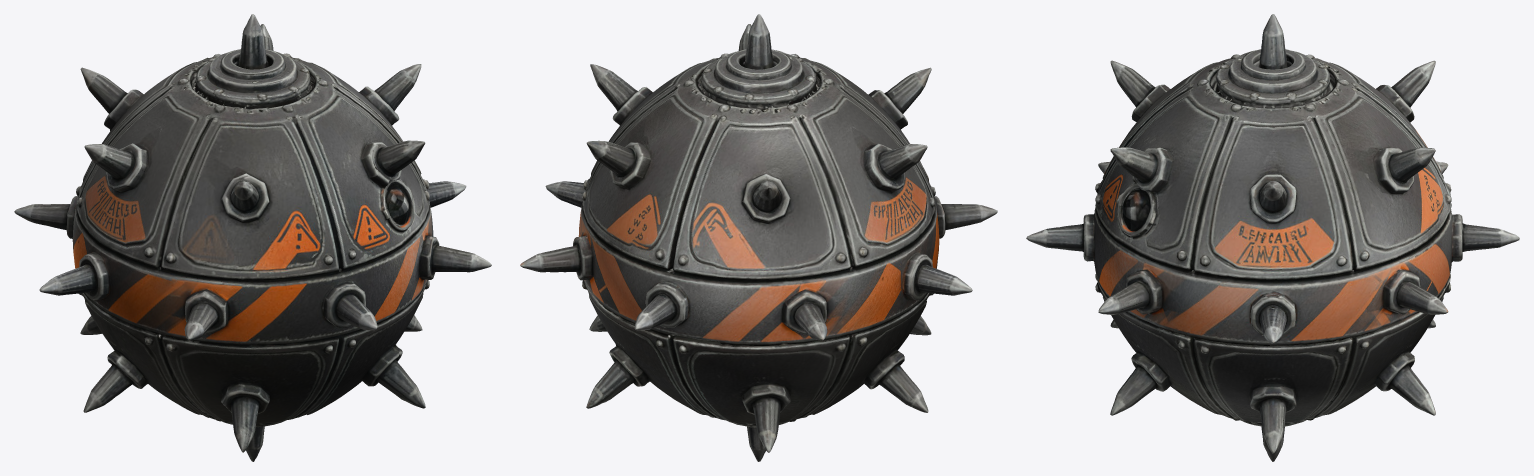
3 renders of one model, left to right at view 1: azimuth 30°, elevation 25°; view 2: azimuth 150°, elevation 25°; view 3: azimuth 270°, elevation 25°, orthographic.
Size of the model in its own units: 0.9996 by 1 by 1.
1 material, 1 textured.
